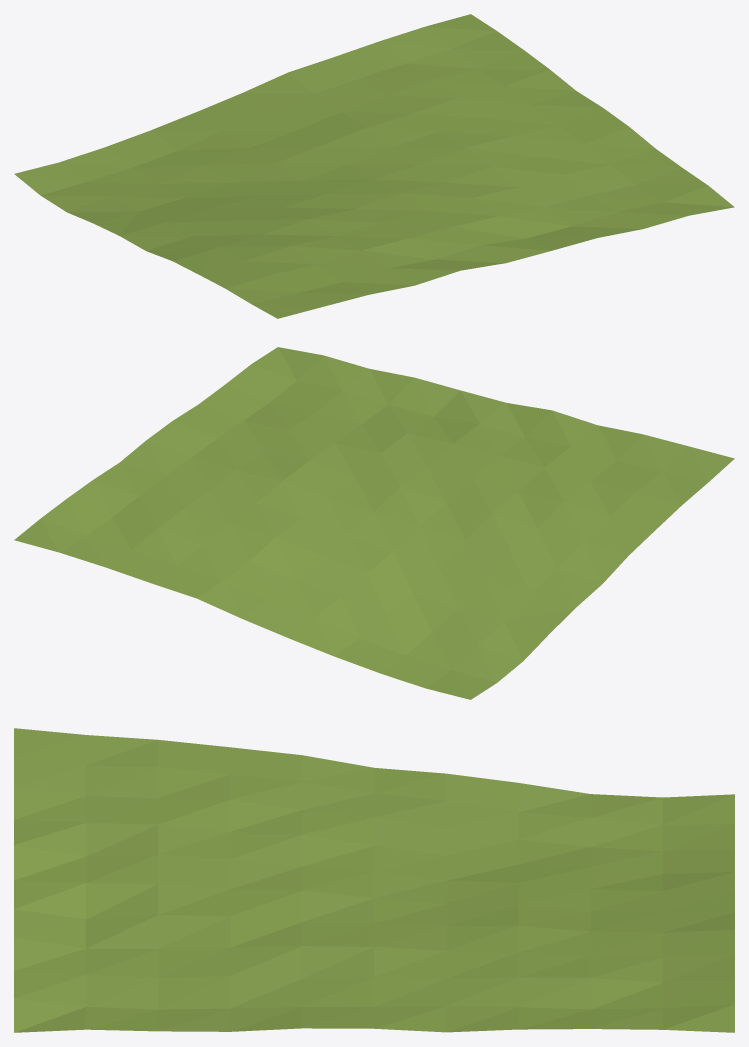
The model's file is terrain-plane_03-2.fbx.
3 renders of one model, top to bottom at view 1: azimuth 30°, elevation 25°; view 2: azimuth 150°, elevation 25°; view 3: azimuth 270°, elevation 25°, orthographic. The views are drawn at different scales.
Visible parts, largest first — view 1: terrain-plane_03-2; view 2: terrain-plane_03-2; view 3: terrain-plane_03-2.
Part boxes in pixels (x1=…): terrain-plane_03-2: x1=14, y1=14, x2=734, y2=318; terrain-plane_03-2: x1=14, y1=347, x2=734, y2=699; terrain-plane_03-2: x1=14, y1=728, x2=734, y2=1032.
Bounding box in the file's own units: 2000 × 227 × 2000.
